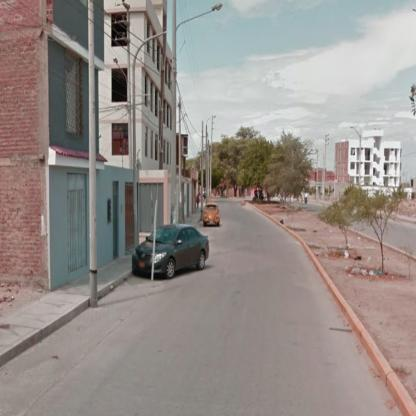Pista: (3, 199, 400, 414)
Vehiculo: (133, 223, 210, 278), (202, 204, 221, 225)
